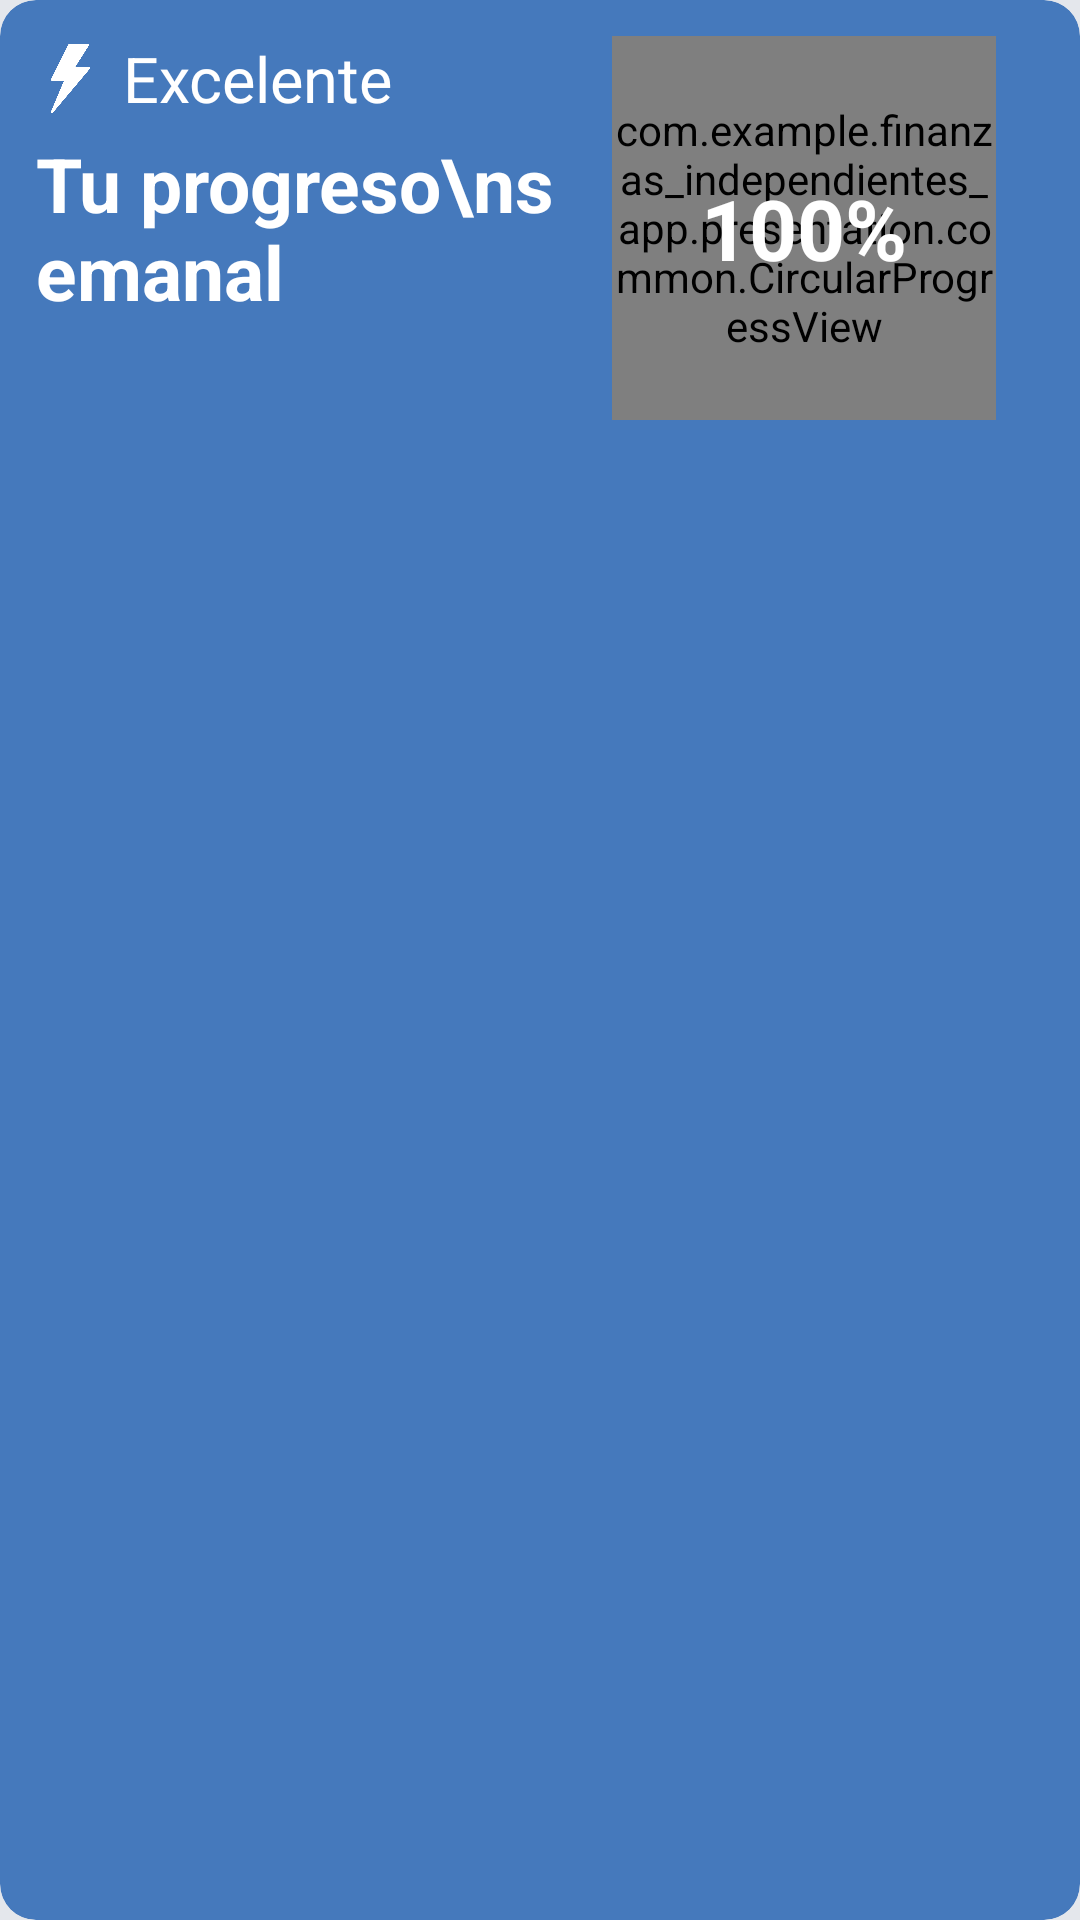

Icons on this 1080 x 1920 Android screen, each with its box as rect(x1, y1, x2, y2):
power full: rect(51, 44, 90, 113)
